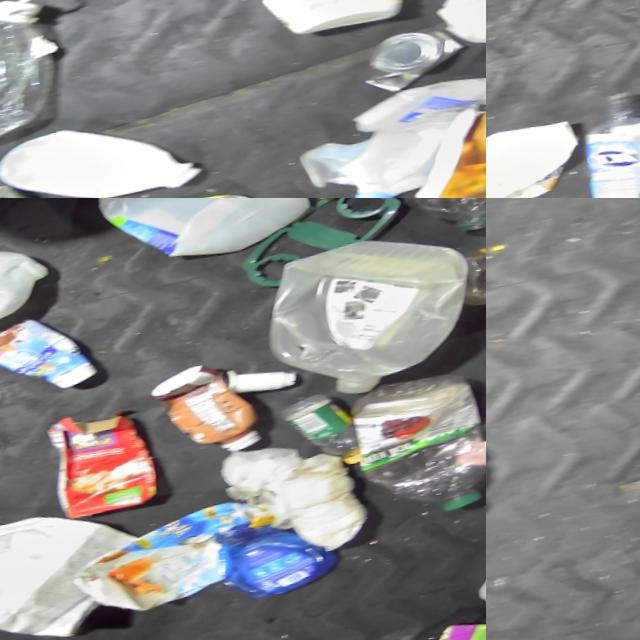can: (348, 27, 462, 105)
milk_jug: (251, 228, 485, 415), (316, 71, 486, 198), (0, 497, 150, 640), (83, 198, 316, 279), (0, 105, 201, 198), (486, 119, 579, 198), (0, 232, 53, 341), (413, 0, 486, 63), (459, 538, 486, 640)
non_white_jug: (59, 497, 275, 624)
plastic_bottle: (338, 375, 486, 533), (0, 0, 72, 156), (274, 392, 357, 481), (378, 198, 486, 252), (452, 249, 486, 316)
